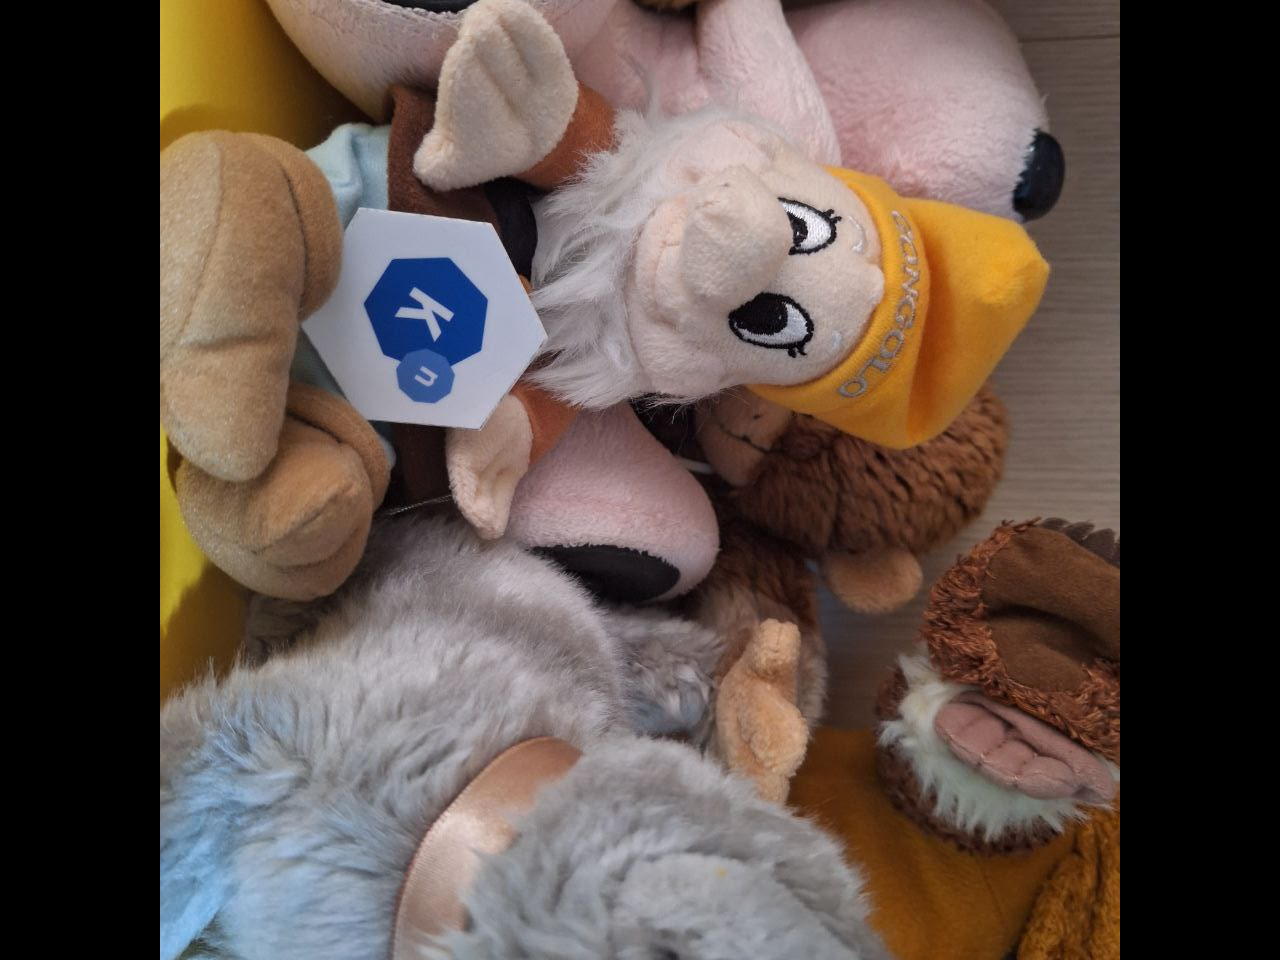knative: (359, 253, 492, 403)
